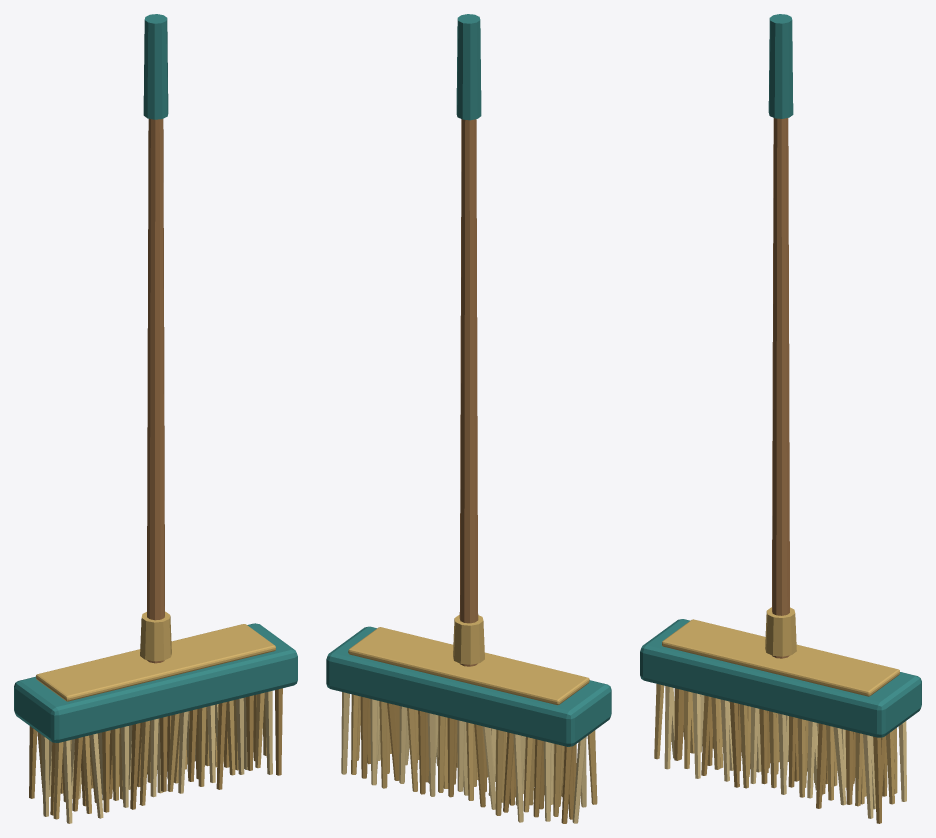
File: Escoba.fbx
3 renders of one model, left to right at view 1: azimuth 30°, elevation 25°; view 2: azimuth 150°, elevation 25°; view 3: azimuth 330°, elevation 25°, orthographic.
Visible parts, largest first — view 1: Escoba; view 2: Escoba; view 3: Escoba.
Part boxes in pixels (box(x1,y1,x2,y2)): Escoba: box(14, 14, 297, 823); Escoba: box(326, 14, 611, 823); Escoba: box(640, 14, 921, 823).
Bounding box in the file's own units: 54 × 162 × 16.
